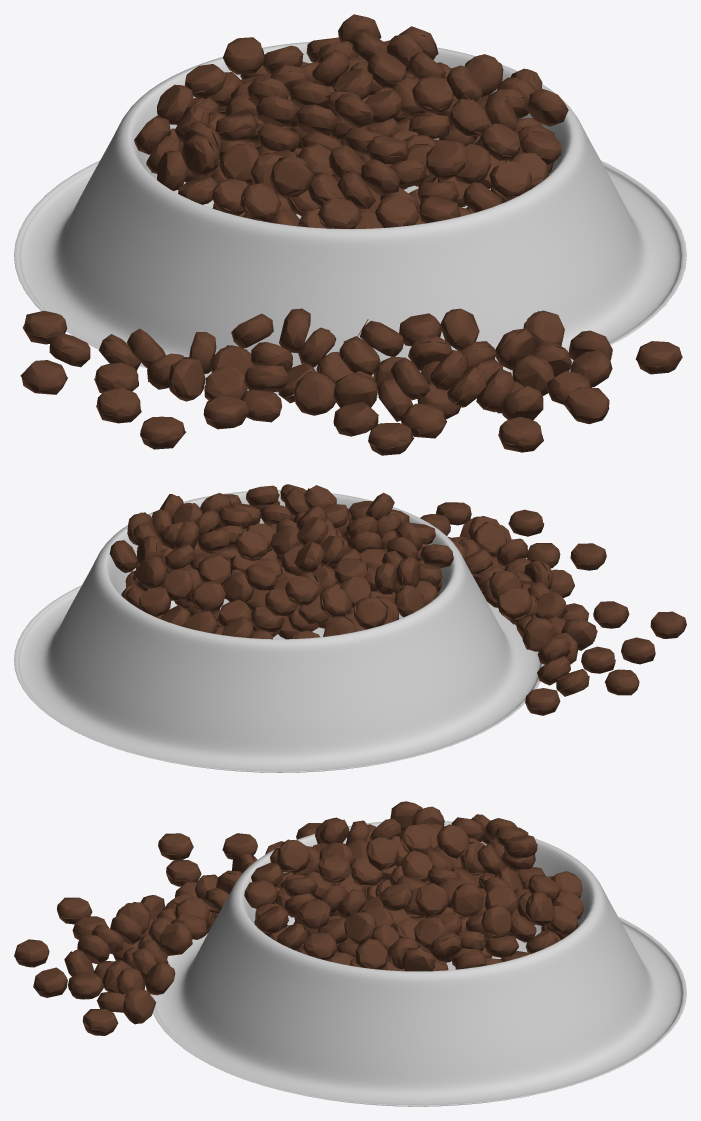
File: pet food.fbx
The picture shows the model from 3 angles, top to bottom: view 1: azimuth 30°, elevation 25°; view 2: azimuth 150°, elevation 25°; view 3: azimuth 270°, elevation 25°; orthographic projection. The views are drawn at different scales.
Parts seen in each view (by area): view 1: model_2, model_0; view 2: model_0, model_2; view 3: model_0, model_2.
Part boxes in pixels (box(x1,y1,x2,y2)): model_2: box(20, 14, 682, 455); model_0: box(14, 41, 686, 397); model_0: box(14, 490, 544, 772); model_2: box(109, 484, 686, 715); model_0: box(150, 821, 686, 1106); model_2: box(14, 801, 584, 1035).
Bounding box in the file's own units: 219 × 59.61 × 235.
